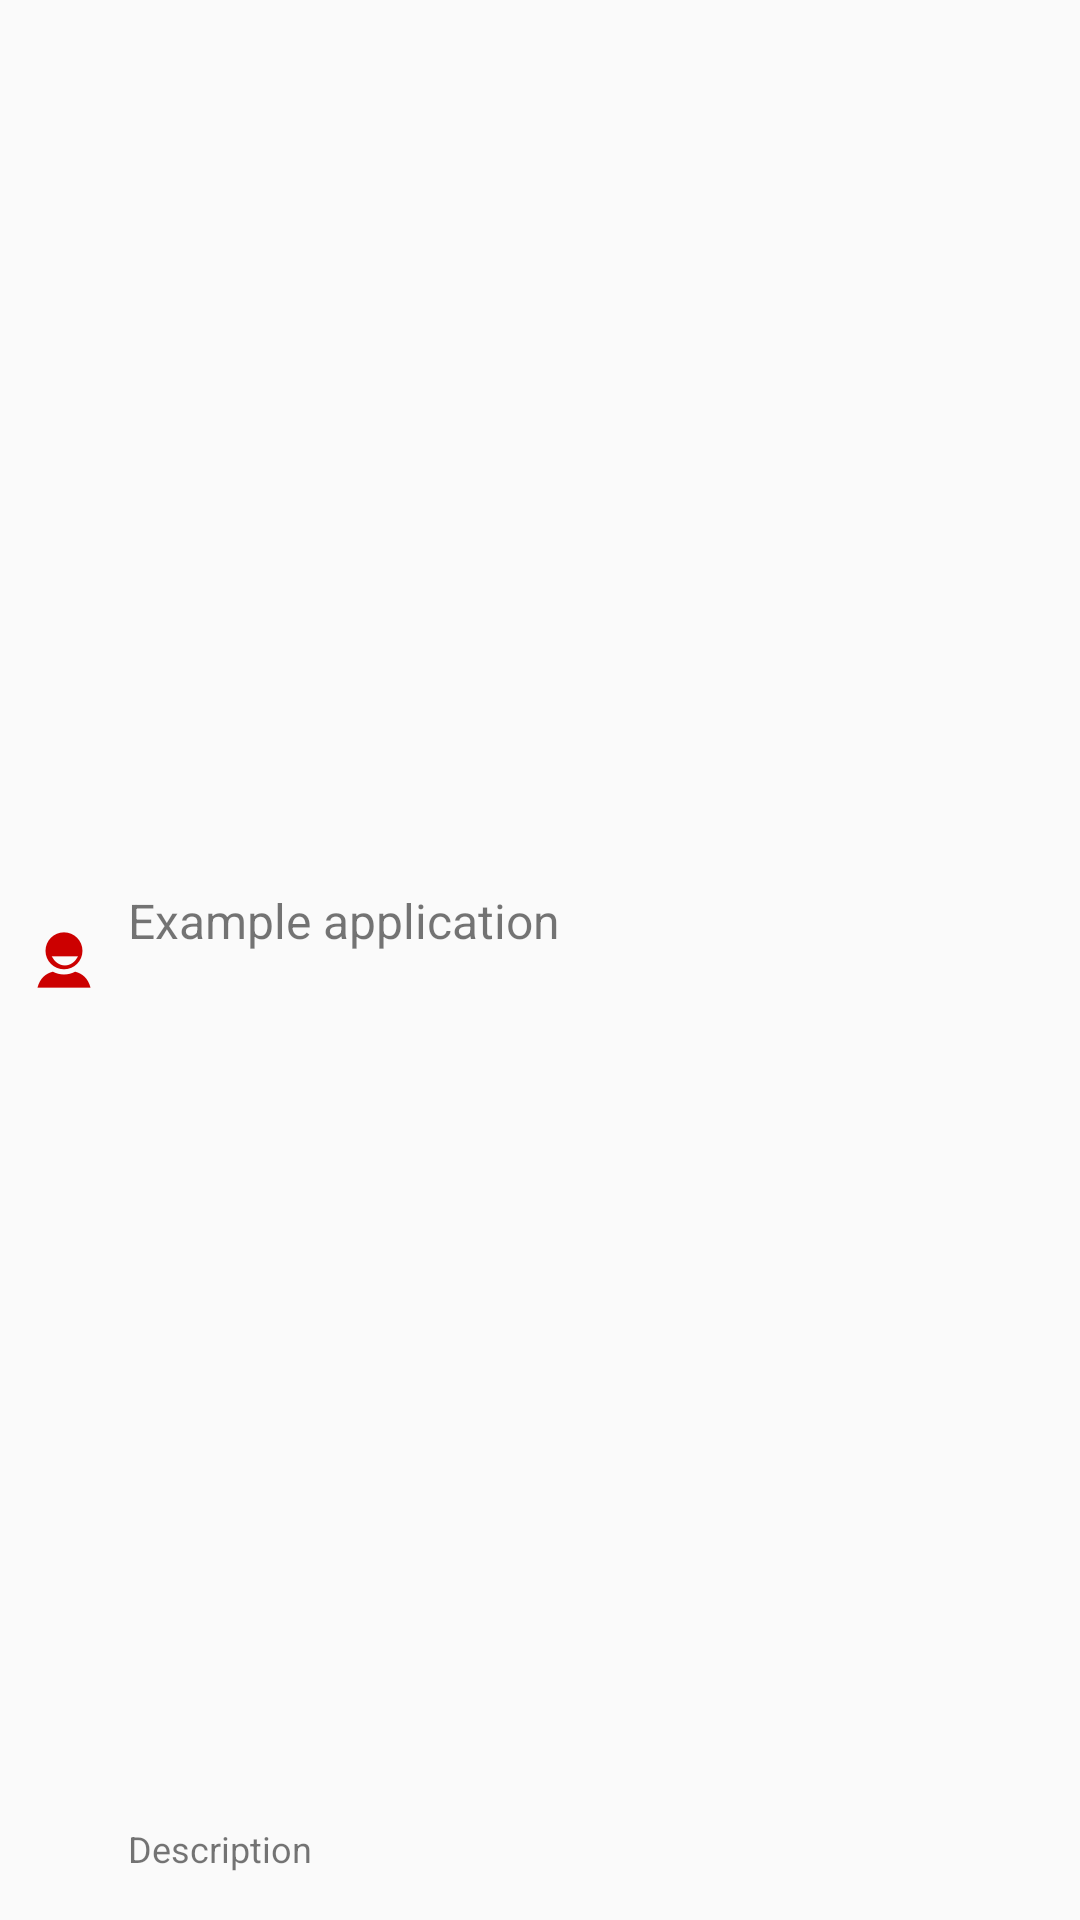

Point at icon controls on the screen. Image size 1080px×1920px, points as (x=x, y=y).
profile: (x=64, y=960)
